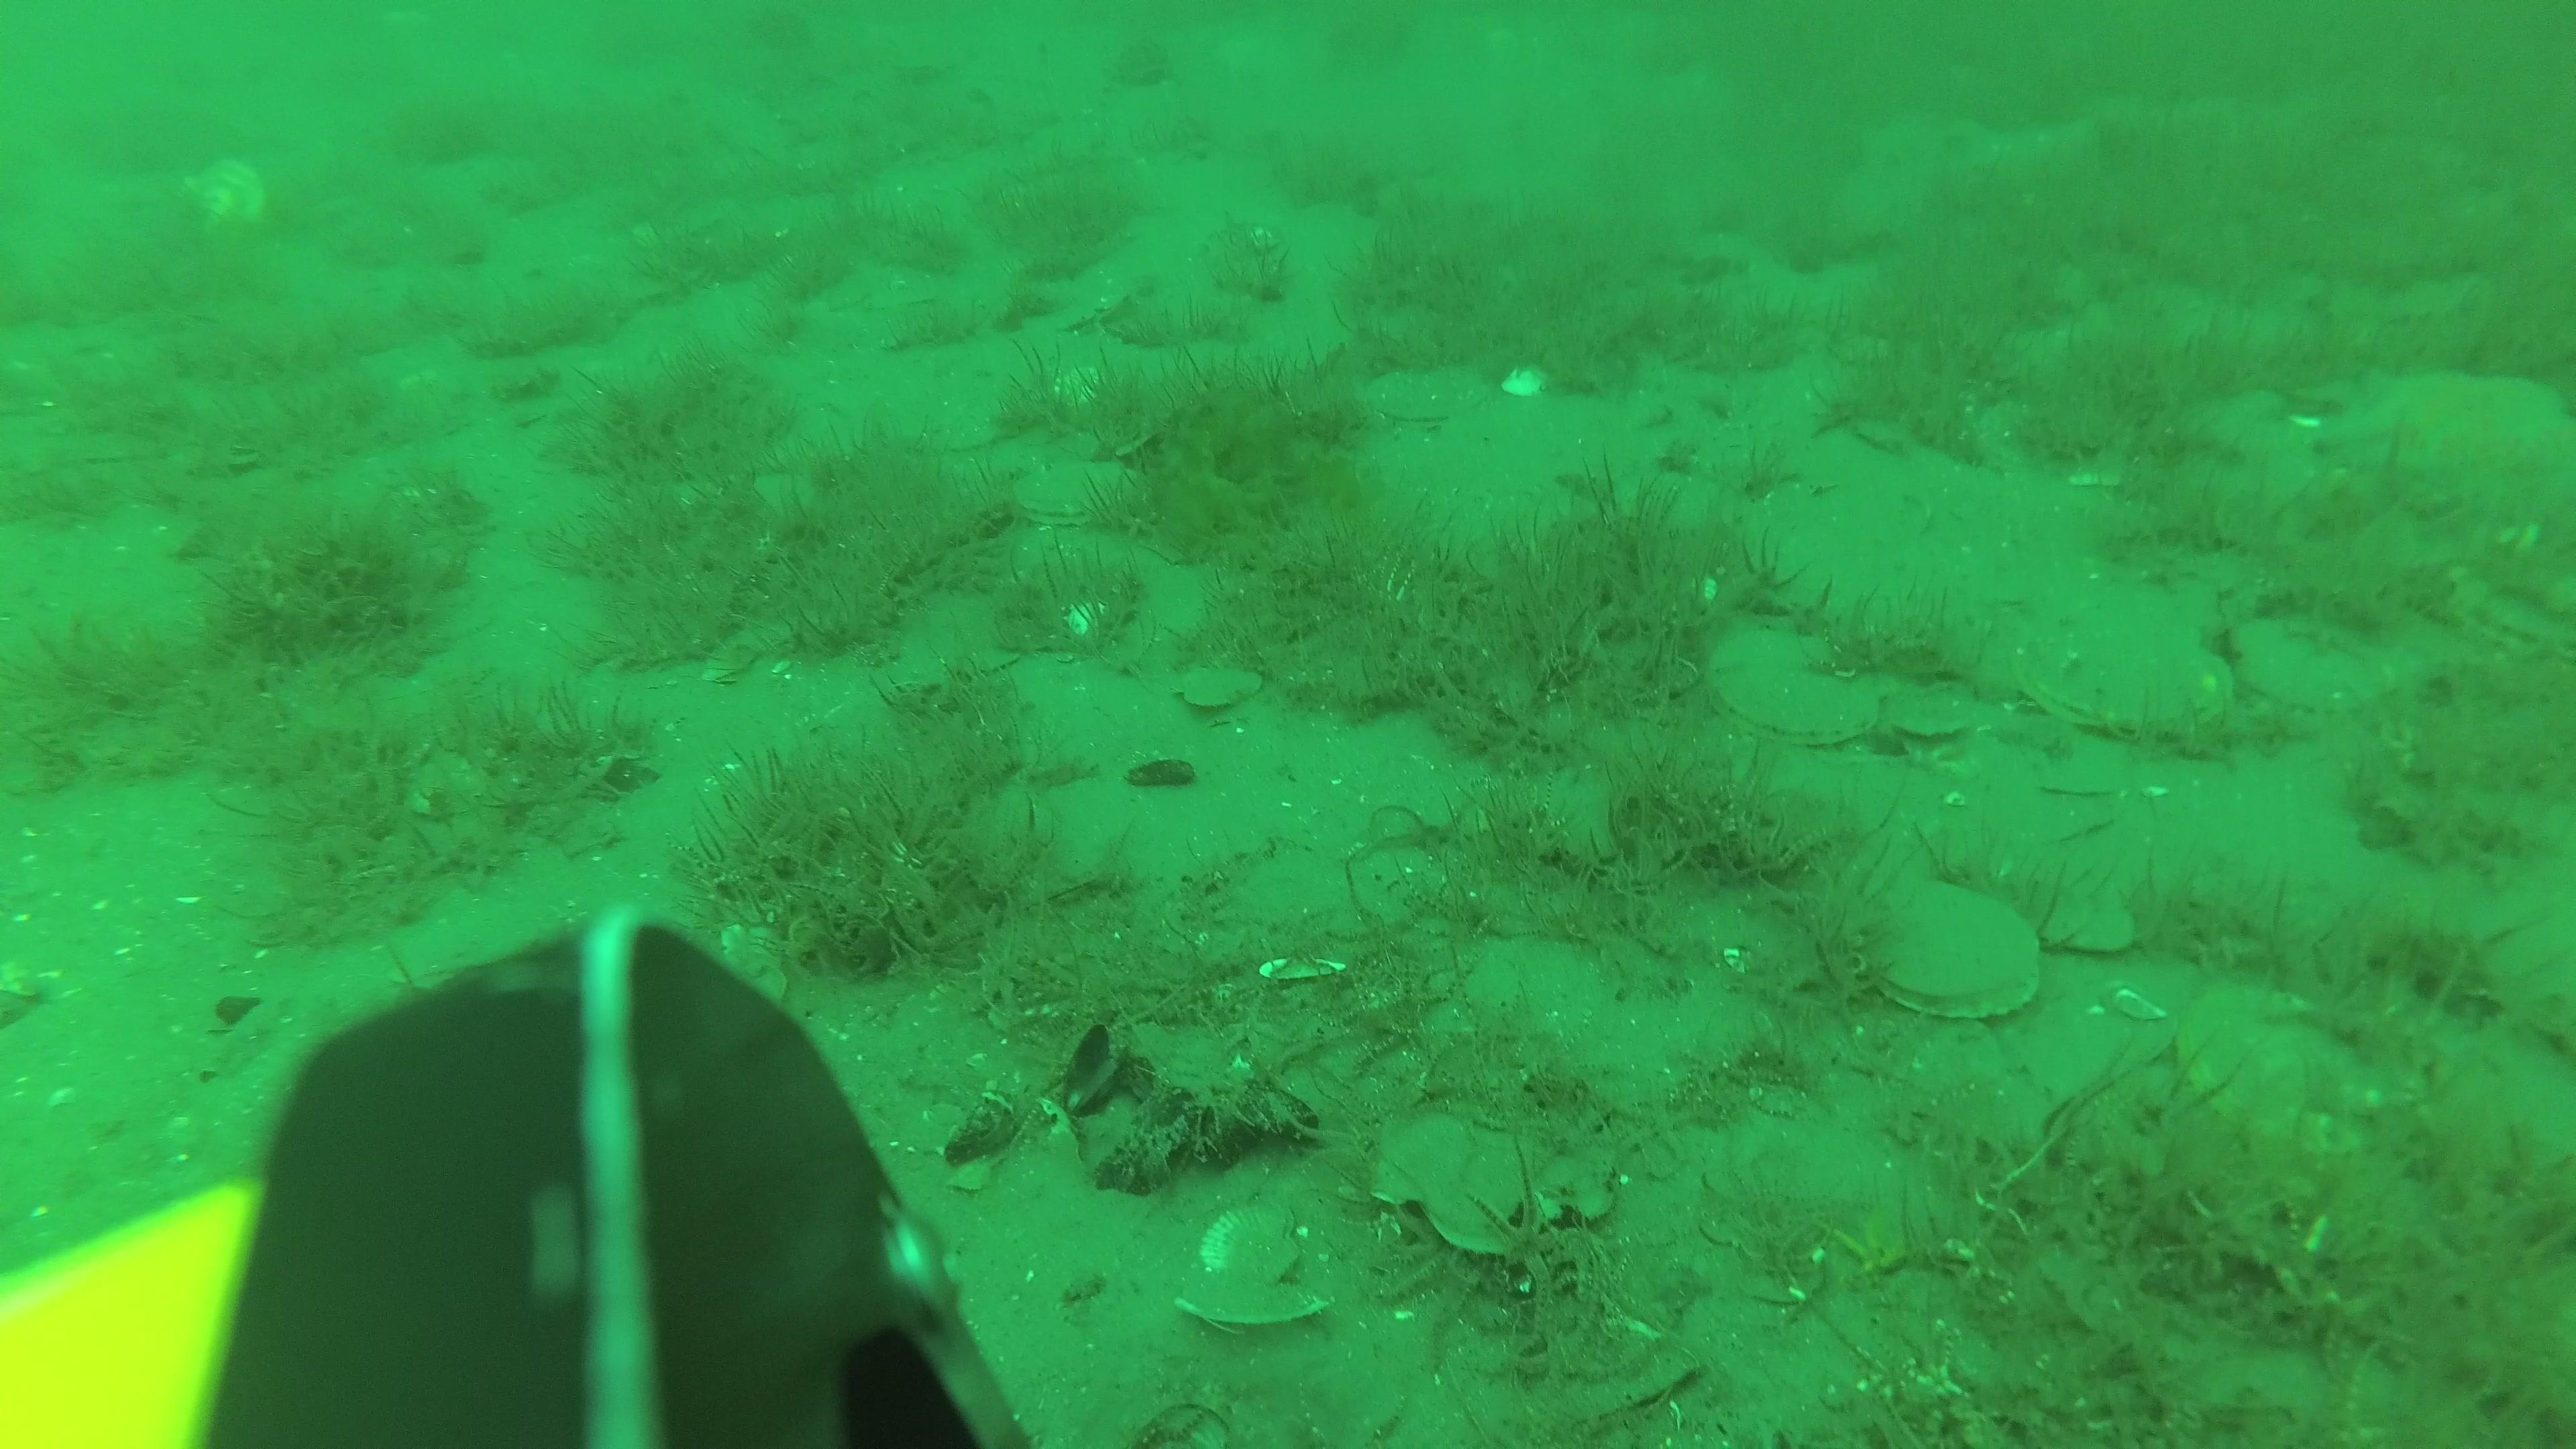scallop: (2173, 973, 2394, 1164), (1863, 876, 2045, 1019), (2017, 623, 2226, 734), (1713, 626, 1879, 743), (1178, 1203, 1330, 1329), (2242, 621, 2394, 718), (1014, 455, 1145, 531), (2456, 575, 2576, 656), (177, 157, 272, 241), (1366, 364, 1484, 421), (2043, 893, 2141, 959), (1169, 663, 1267, 713), (1898, 699, 1967, 743)
starfish: (2328, 366, 2576, 483)
